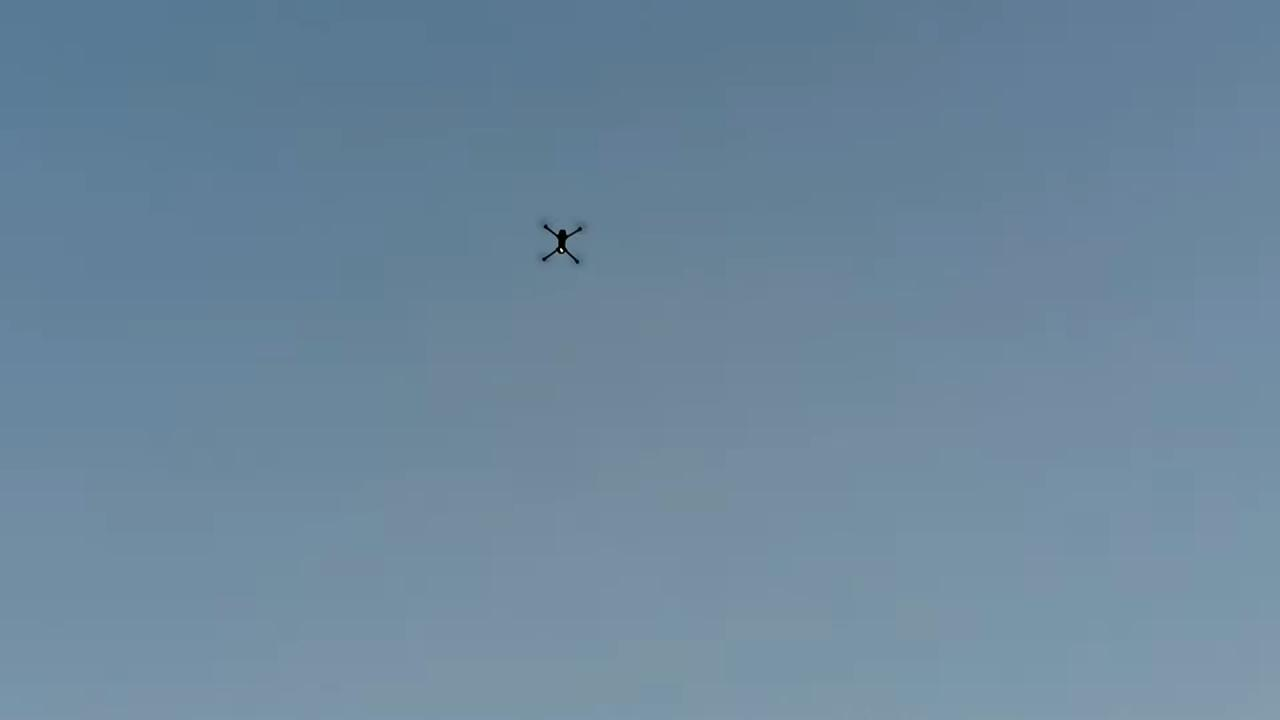Drone: (524, 204, 598, 274)
